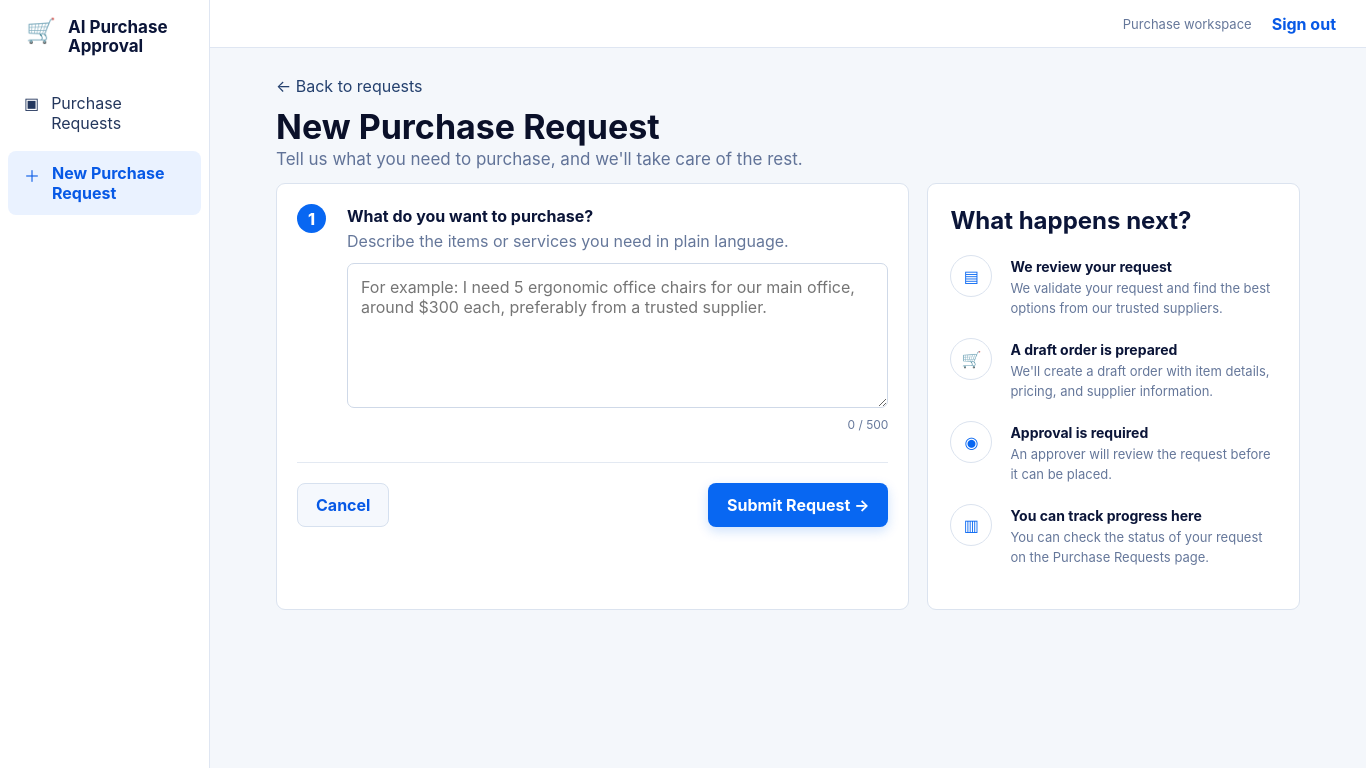
Test: App › renders the purchase request application shell and navigates back
expect the heading "New Purchase Request" is shown: met, box [276,106,660,147]
Click the button "← Back to requests": (349, 86) [276,76,422,96]
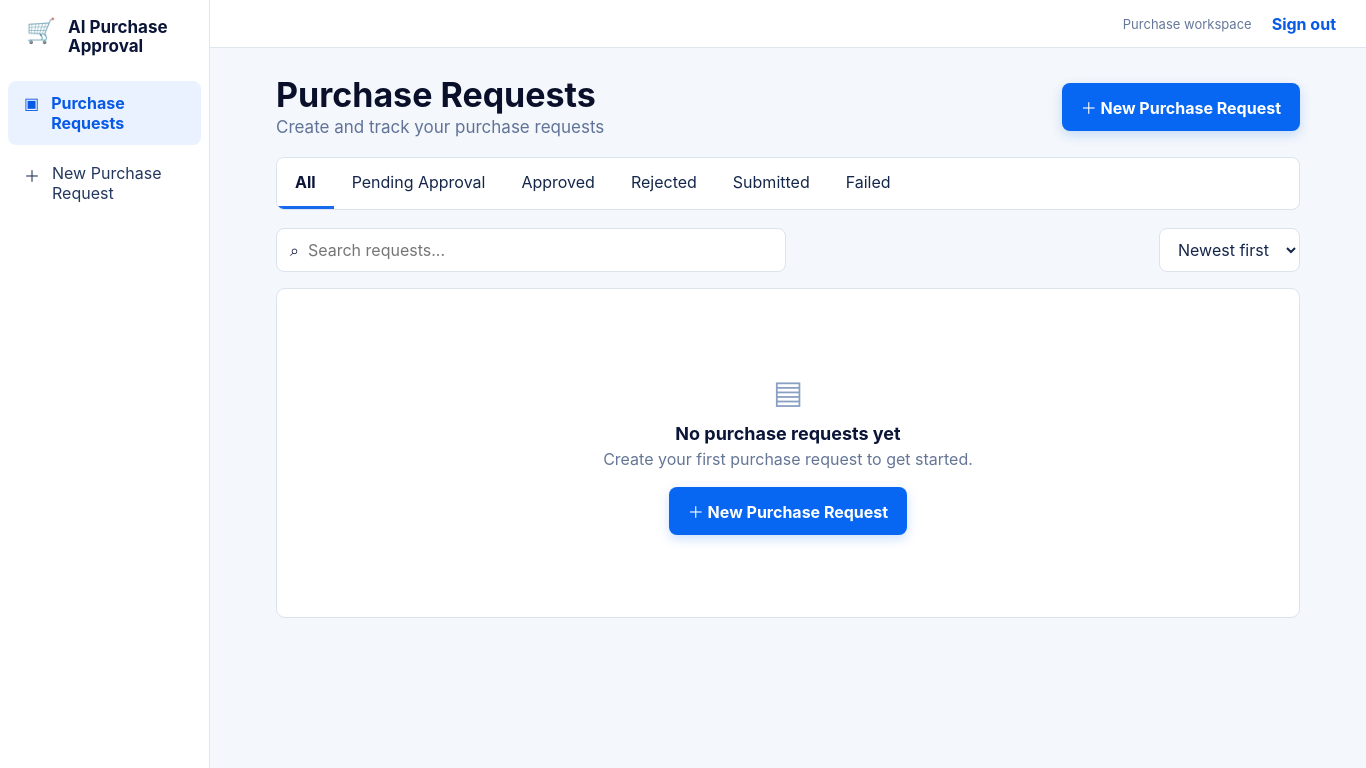
expect the heading "Purchase Requests" is shown: met, box [276,76,604,113]
expect the heading "No purchase requests yet" is shown: met, box [675,423,901,444]
